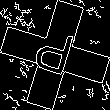P_S: (30, 26, 80, 84)
